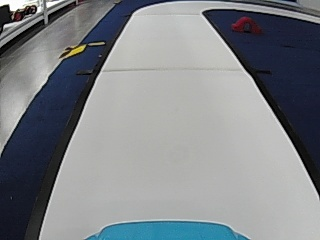bridge: (231, 15, 260, 33)
